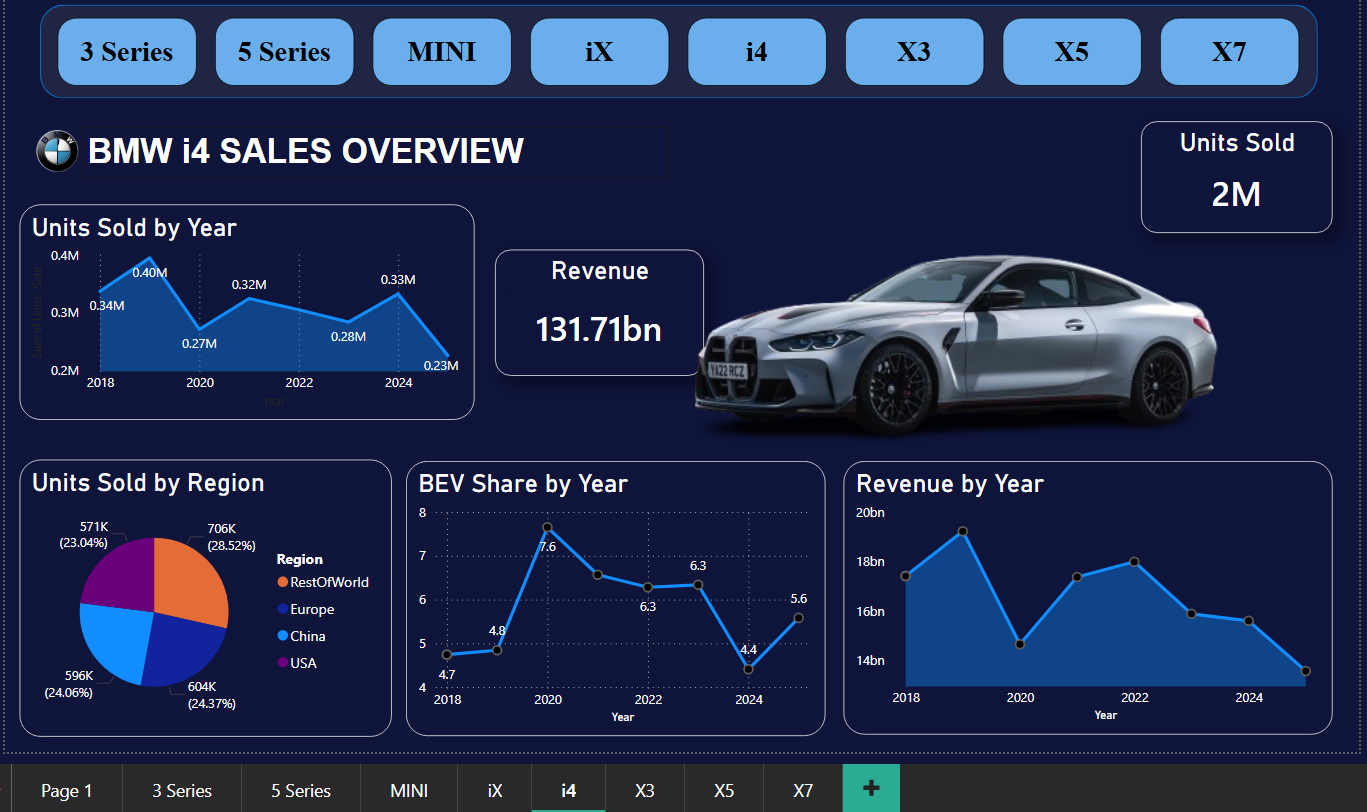

What the dashboard file says about the page in this screenshot:
{"tool":"powerbi","page":{"name":"i4","canvas":[1280,720],"ordinal":5},"visuals":[{"type":"shape","box":[33.7,13.8,1207.6,88.8],"z":0},{"type":"actionButton","box":[49,26,131.6,64.3],"z":1000},{"type":"actionButton","box":[197.9,26,131.6,64.3],"z":2000},{"type":"actionButton","box":[346.7,26,131.6,64.3],"z":3000},{"type":"actionButton","box":[495.6,26,131.6,64.3],"z":4000},{"type":"actionButton","box":[644.5,26,131.6,64.3],"z":5000},{"type":"actionButton","box":[793.4,26,131.6,64.3],"z":6000},{"type":"actionButton","box":[942.3,26,131.6,64.3],"z":7000},{"type":"actionButton","box":[1091.2,26,131.6,64.3],"z":8000},{"type":"lineChart","title":"Units Sold by Year","fields":{"Y":["Sum(Sheet1.Units_Sold)"],"Category":["Sheet1.Year"]},"box":[13.8,202,430.1,203.6],"z":9000},{"type":"pieChart","title":"Units Sold by Region","fields":{"Category":["Sheet1.Region"],"Y":["Sum(Sheet1.Units_Sold)"]},"box":[13.8,443.8,352,261.7],"z":10000},{"type":"lineChart","title":"BEV Share by Year","fields":{"Y":["Avg(Sheet1.BEV_Share_%)"],"Category":["Sheet1.Year"]},"box":[379.6,445.4,396.4,260.2],"z":11000},{"type":"cardVisual","title":"Units Sold","fields":{"Data":["Sum(Sheet1.Units_Sold)"]},"box":[1073.9,124.6,181.2,105.8],"z":12000},{"type":"areaChart","title":"Revenue by Year","fields":{"Category":["Sheet1.Year"],"Y":["Sum(Sheet1.Revenue)"]},"box":[792.8,445.4,462.2,258.7],"z":14000},{"type":"image","box":[24.5,131.6,49,39.8],"z":15000},{"type":"cardVisual","title":"Revenue","fields":{"Data":["Sum(Sheet1.Revenue)"]},"box":[463.7,244.9,197.4,119.4],"z":16000},{"type":"textbox","box":[73.2,129.2,554.3,48.3],"z":17000},{"type":"image","box":[431.3,90.3,848.5,468.6],"z":17500}]}

Visuals, with their boxes on the page's 1280x720 design canvas (x1, y1, x2, y2). These are canvas units, not pixel positions in the 1367x812 screenshot, which may show the page scaled, cropped or inside an application window:
shape: crop(34, 14, 1241, 103)
actionButton: crop(49, 26, 181, 90)
actionButton: crop(198, 26, 330, 90)
actionButton: crop(347, 26, 478, 90)
actionButton: crop(496, 26, 627, 90)
actionButton: crop(644, 26, 776, 90)
actionButton: crop(793, 26, 925, 90)
actionButton: crop(942, 26, 1074, 90)
actionButton: crop(1091, 26, 1223, 90)
"Units Sold by Year" lineChart: crop(14, 202, 444, 406)
"Units Sold by Region" pieChart: crop(14, 444, 366, 706)
"BEV Share by Year" lineChart: crop(380, 445, 776, 706)
"Units Sold" cardVisual: crop(1074, 125, 1255, 230)
"Revenue by Year" areaChart: crop(793, 445, 1255, 704)
image: crop(24, 132, 74, 171)
"Revenue" cardVisual: crop(464, 245, 661, 364)
textbox: crop(73, 129, 628, 178)
image: crop(431, 90, 1280, 559)
